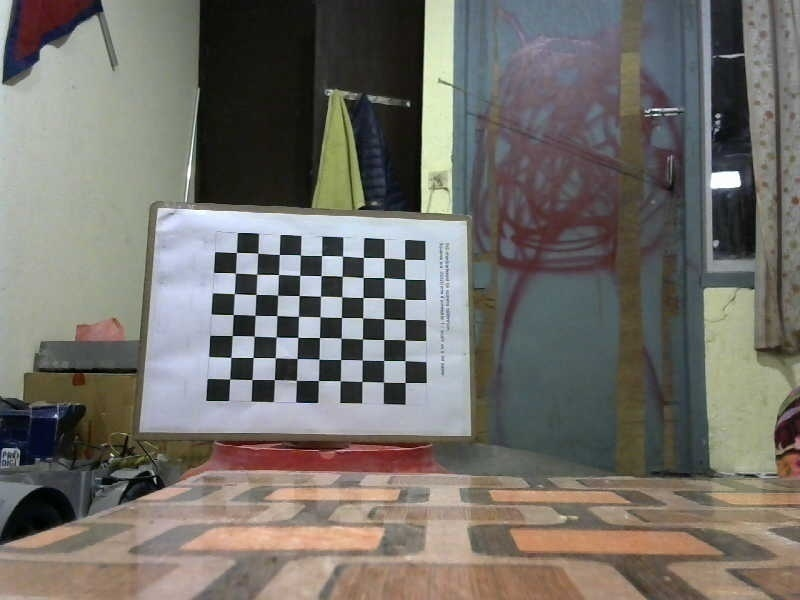block: (154, 199, 462, 440)
